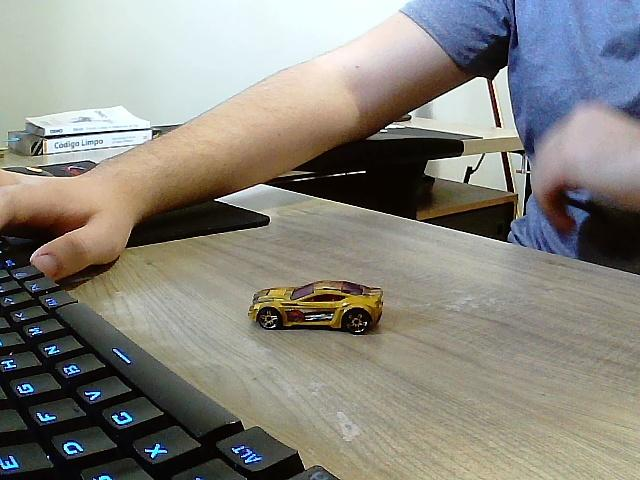Carro: (250, 281, 382, 336)
